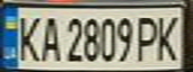0: (100, 14, 118, 63)
2: (60, 12, 84, 63)
8: (81, 14, 103, 63)
9: (115, 14, 139, 62)
A: (36, 12, 63, 63)
K: (151, 11, 184, 62), (12, 11, 42, 63)
P: (133, 12, 163, 62)
